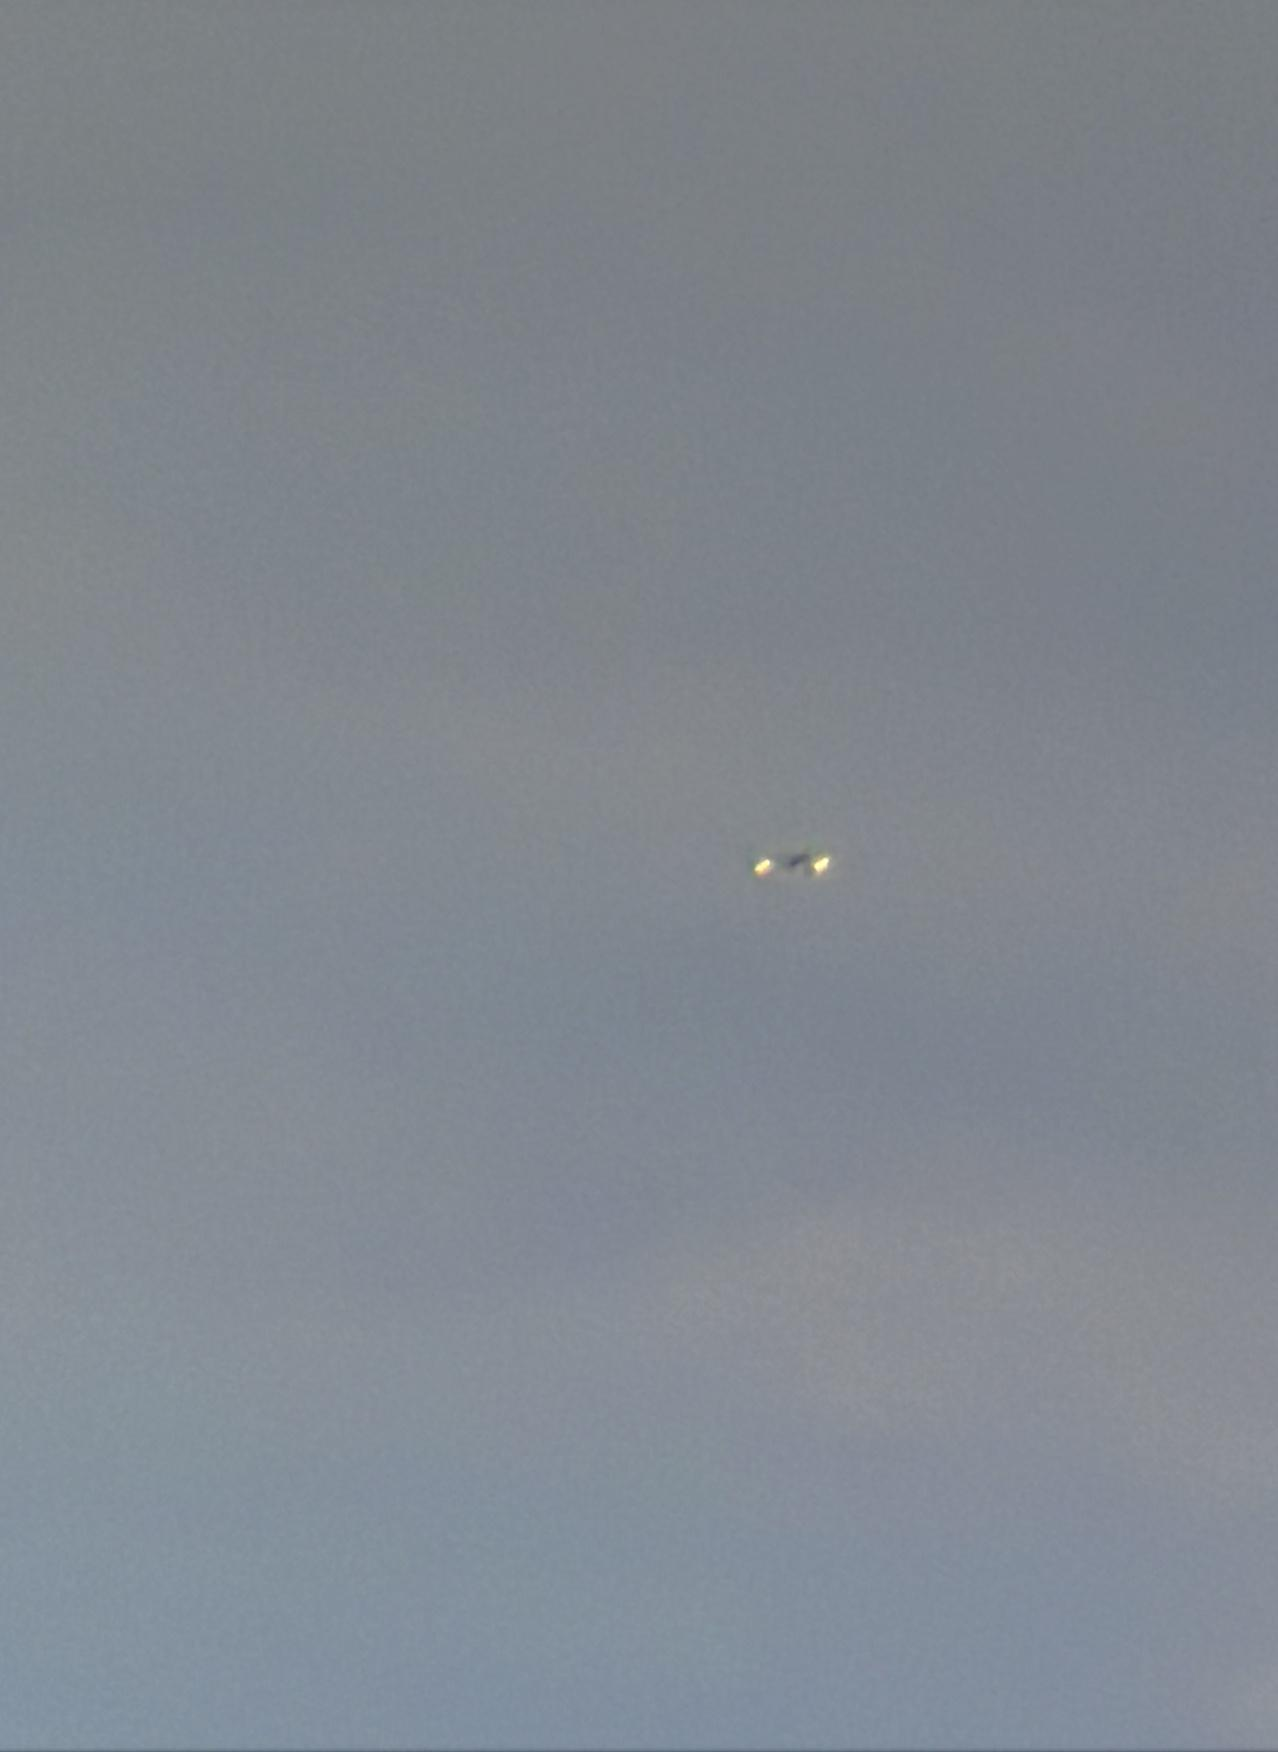Plane: (721, 809, 867, 921)
